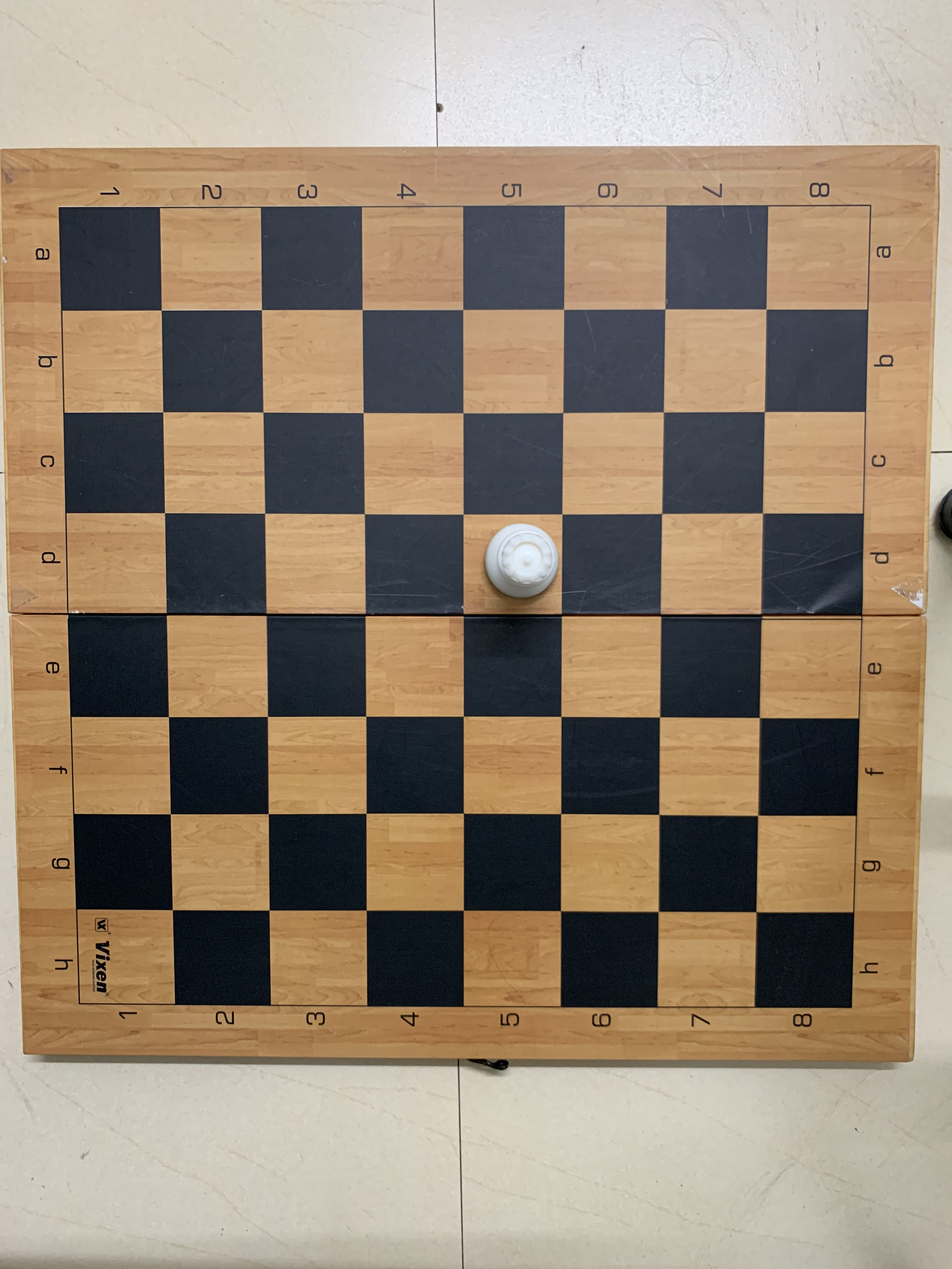white_queen: (459, 515, 566, 615)
